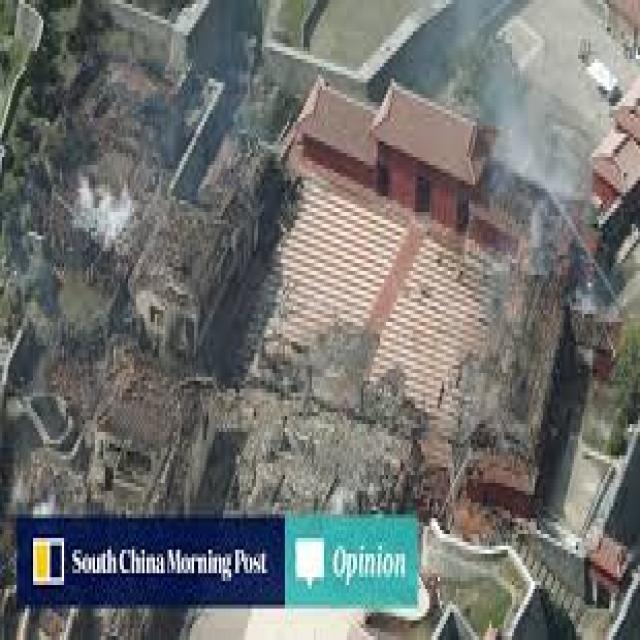Smoke: (441, 0, 608, 306)
